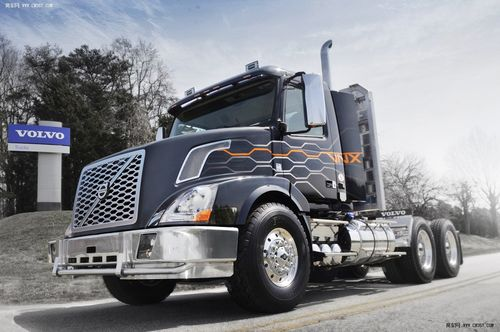卡车: (54, 65, 477, 303)
